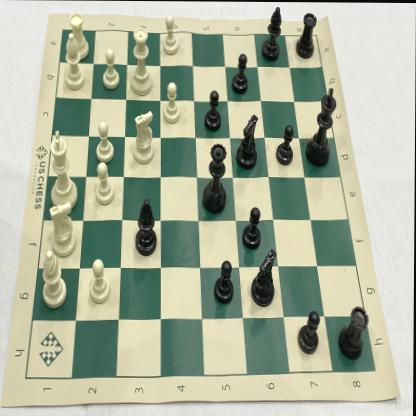black-bishop: (134, 198, 158, 260), (261, 4, 283, 62)
black-king: (305, 83, 338, 169)
black-knight: (251, 245, 278, 310), (236, 112, 260, 170)
black-pawn: (297, 306, 322, 356), (213, 258, 236, 304), (202, 88, 224, 134), (241, 205, 263, 250), (229, 50, 251, 94), (275, 123, 296, 169)
black-queen: (202, 141, 228, 216)
black-rook: (337, 302, 371, 360), (295, 9, 319, 61)
white-bishop: (40, 247, 70, 309), (60, 32, 87, 92)
white-king: (47, 127, 80, 211)
white-knight: (47, 201, 79, 258), (130, 110, 156, 166)
white-pawn: (91, 162, 118, 208), (88, 258, 113, 306), (162, 80, 185, 125), (93, 118, 115, 165), (100, 48, 122, 94), (160, 11, 181, 58)
white-queen: (128, 22, 155, 98)
white-rook: (68, 11, 90, 61)
